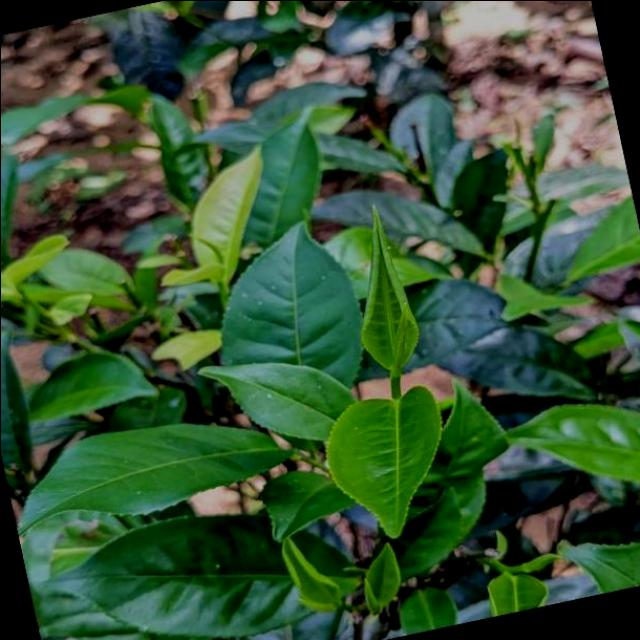Stem: (536, 213, 547, 222)
